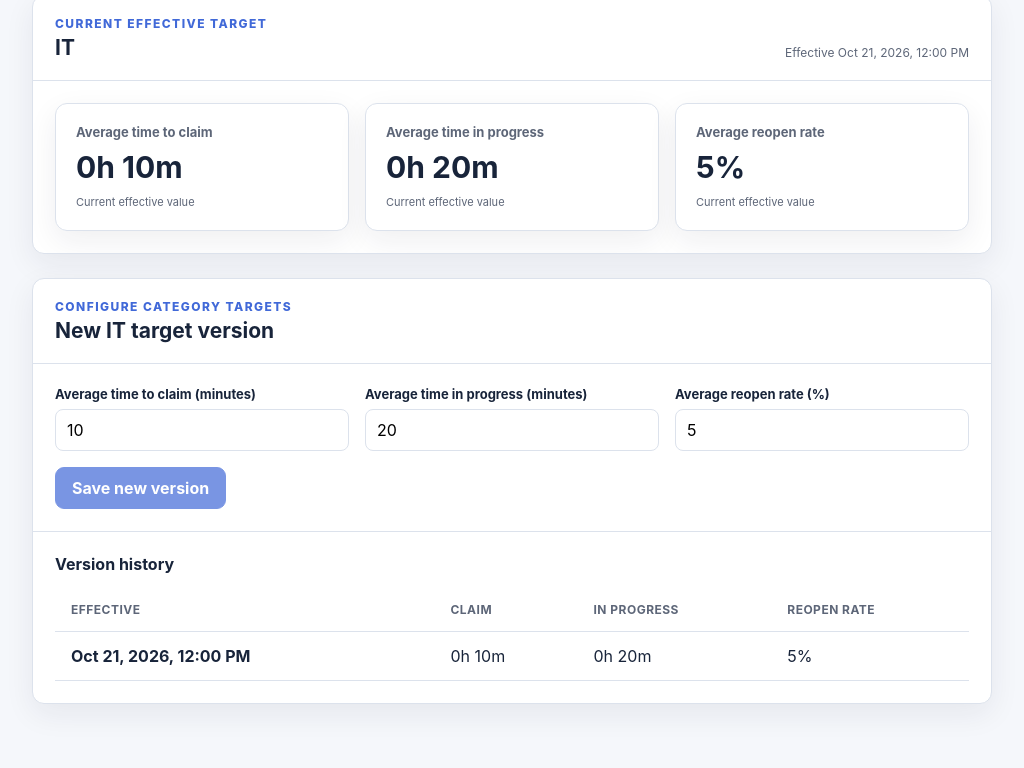
Scenario: AdministratorSloConfiguration › keeps entered values and associates server validation with its field
(page scrolled)
Replace the text in the number field labelled "Average time to claim (minutes)" with "15" at (202, 430), box [55,409,349,451]
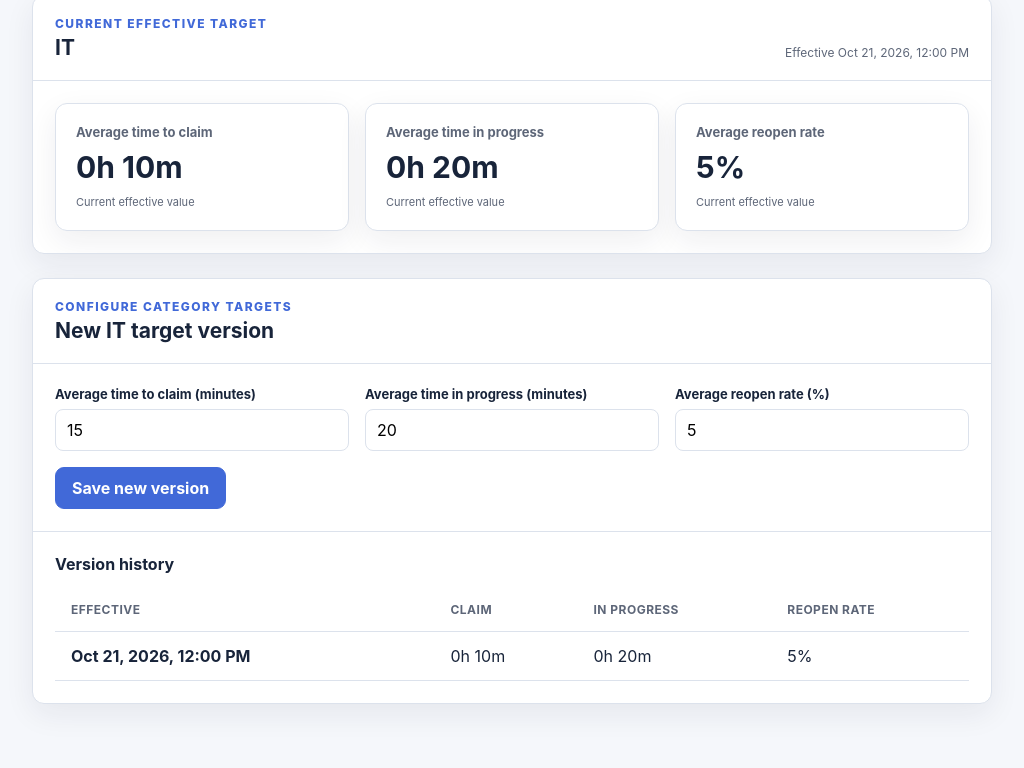
Click the button "Save new version" at (141, 488), box [55,467,226,509]
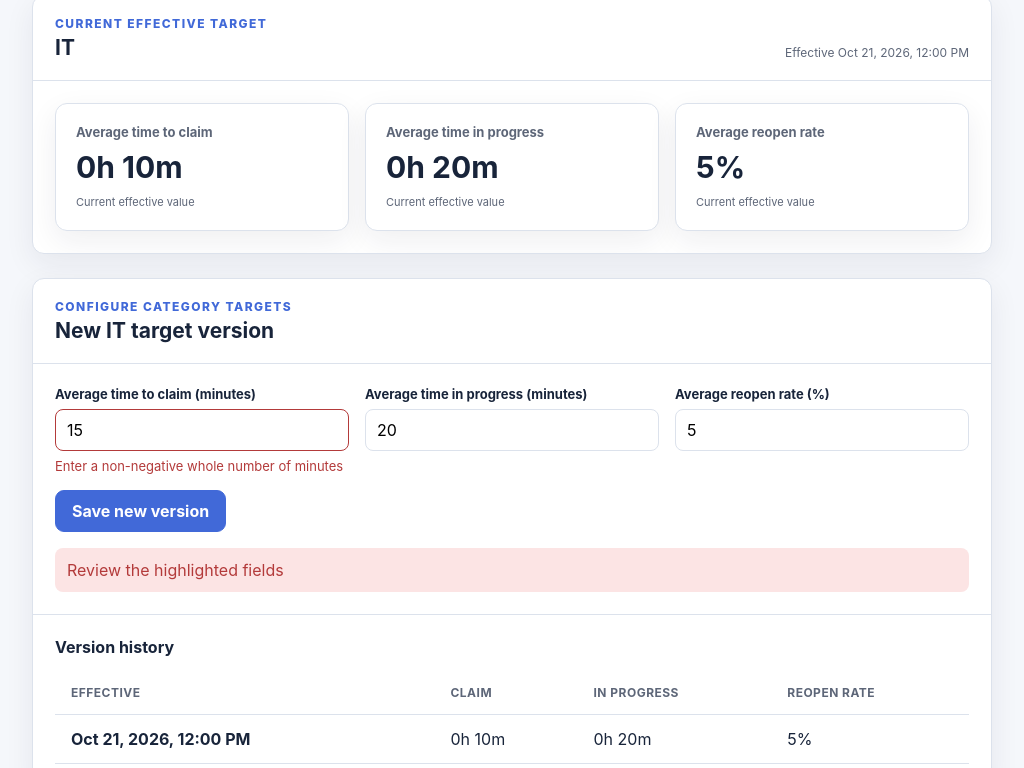
Result: the text "Enter a non-negative whole number of minutes" is shown at [55,458,349,474]
